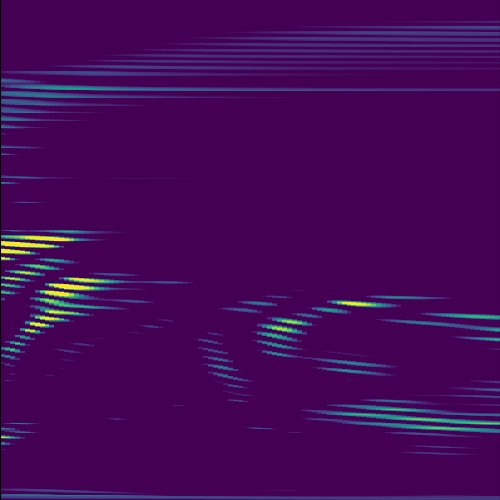semblance: (1, 230, 87, 261), (29, 273, 120, 300)
